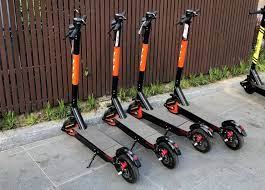kick_handler: (110, 11, 126, 44), (66, 15, 87, 37), (139, 11, 157, 33), (177, 9, 200, 24)
kick_neck: (176, 39, 187, 89), (72, 41, 80, 104), (139, 35, 147, 87), (113, 46, 119, 99)
kick_wheel: (115, 155, 138, 183), (220, 125, 243, 151), (156, 143, 178, 169), (190, 128, 211, 152), (61, 117, 76, 137), (103, 108, 117, 126), (130, 101, 143, 118), (166, 97, 179, 114), (242, 79, 254, 93)
